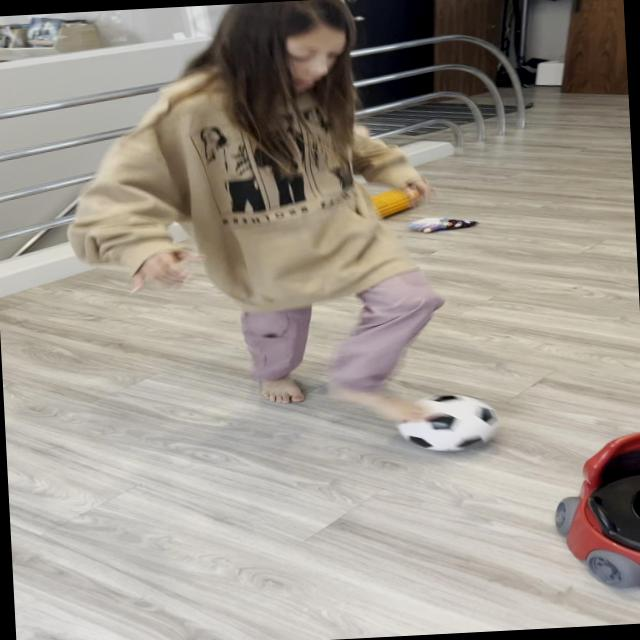Soccer Ball: (396, 392, 497, 454)
